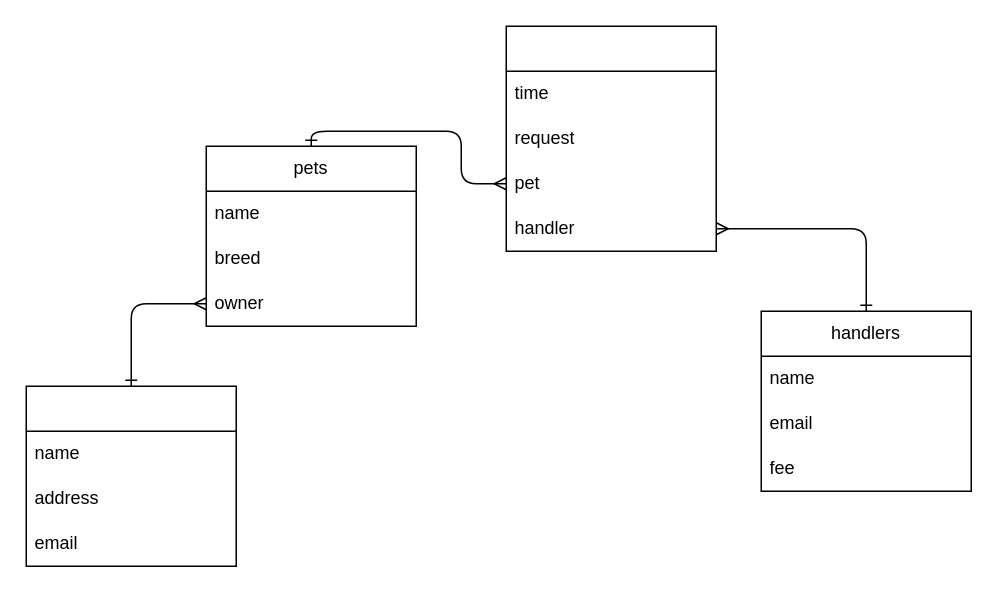
Image size: 998x593. Some labels were removed from this diagram. The box of each missing label's shape, as (x1, y1, x2, y2) in pixels:
jobs: (505, 25, 716, 251)
owners: (25, 385, 236, 566)
